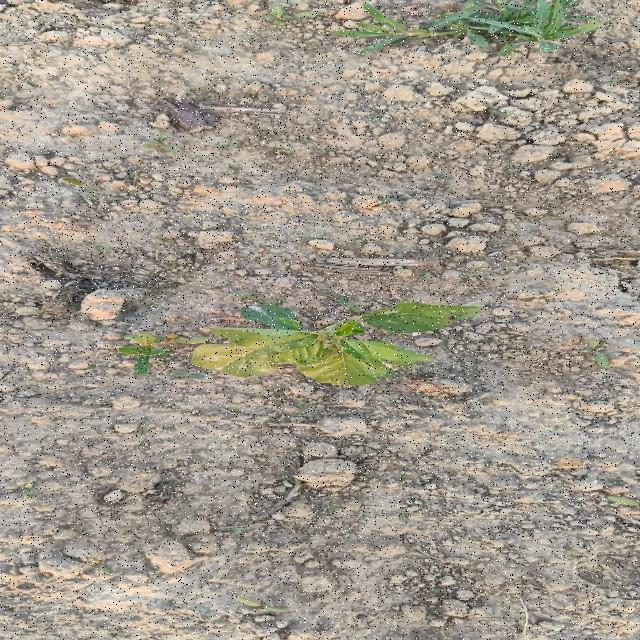plant: (189, 302, 479, 386)
